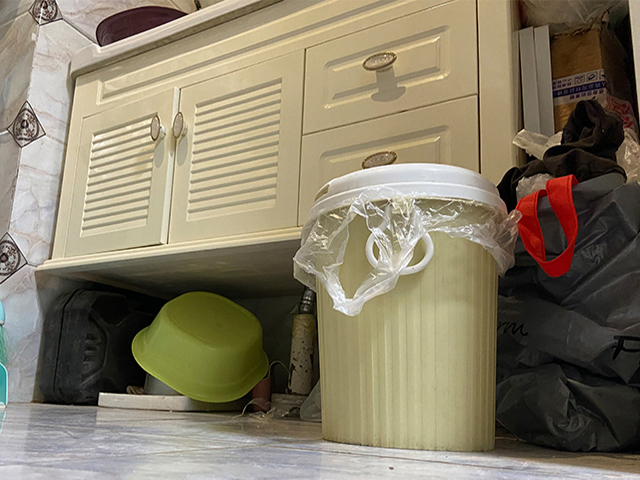trashcan: (292, 160, 521, 452)
